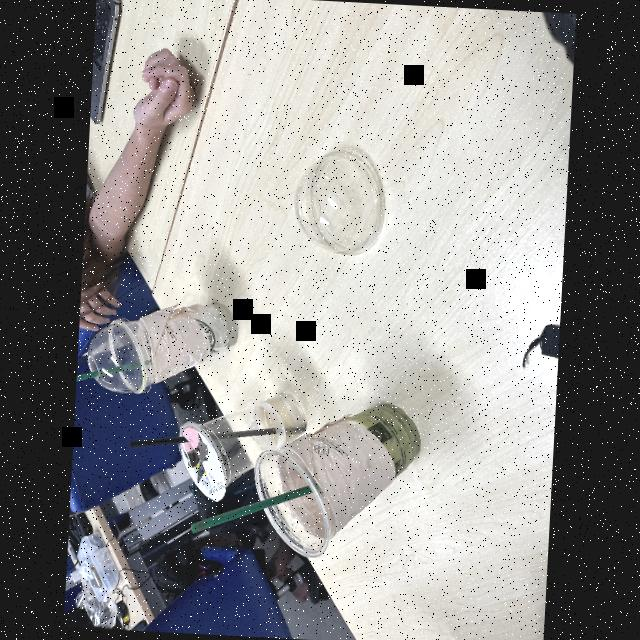plastic_cup: (248, 391, 432, 567), (101, 280, 241, 398), (176, 388, 304, 508)
plastic_cup_lid: (290, 144, 390, 256)
straw: (188, 484, 316, 535), (129, 426, 305, 448), (76, 360, 145, 382)
